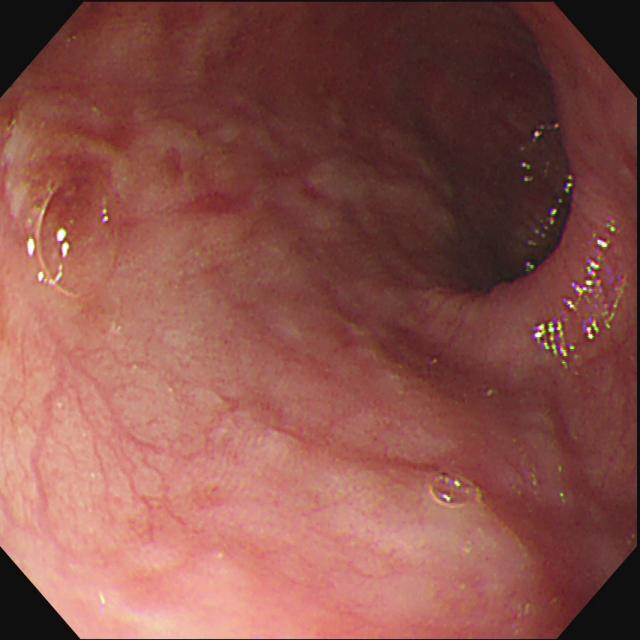A: (261, 426, 535, 565), (138, 114, 345, 253)
E: (425, 42, 586, 320)
T: (33, 172, 123, 300), (429, 470, 485, 513)
U: (566, 218, 629, 342), (527, 175, 577, 276), (533, 320, 577, 370), (533, 121, 562, 145), (521, 160, 533, 184)
